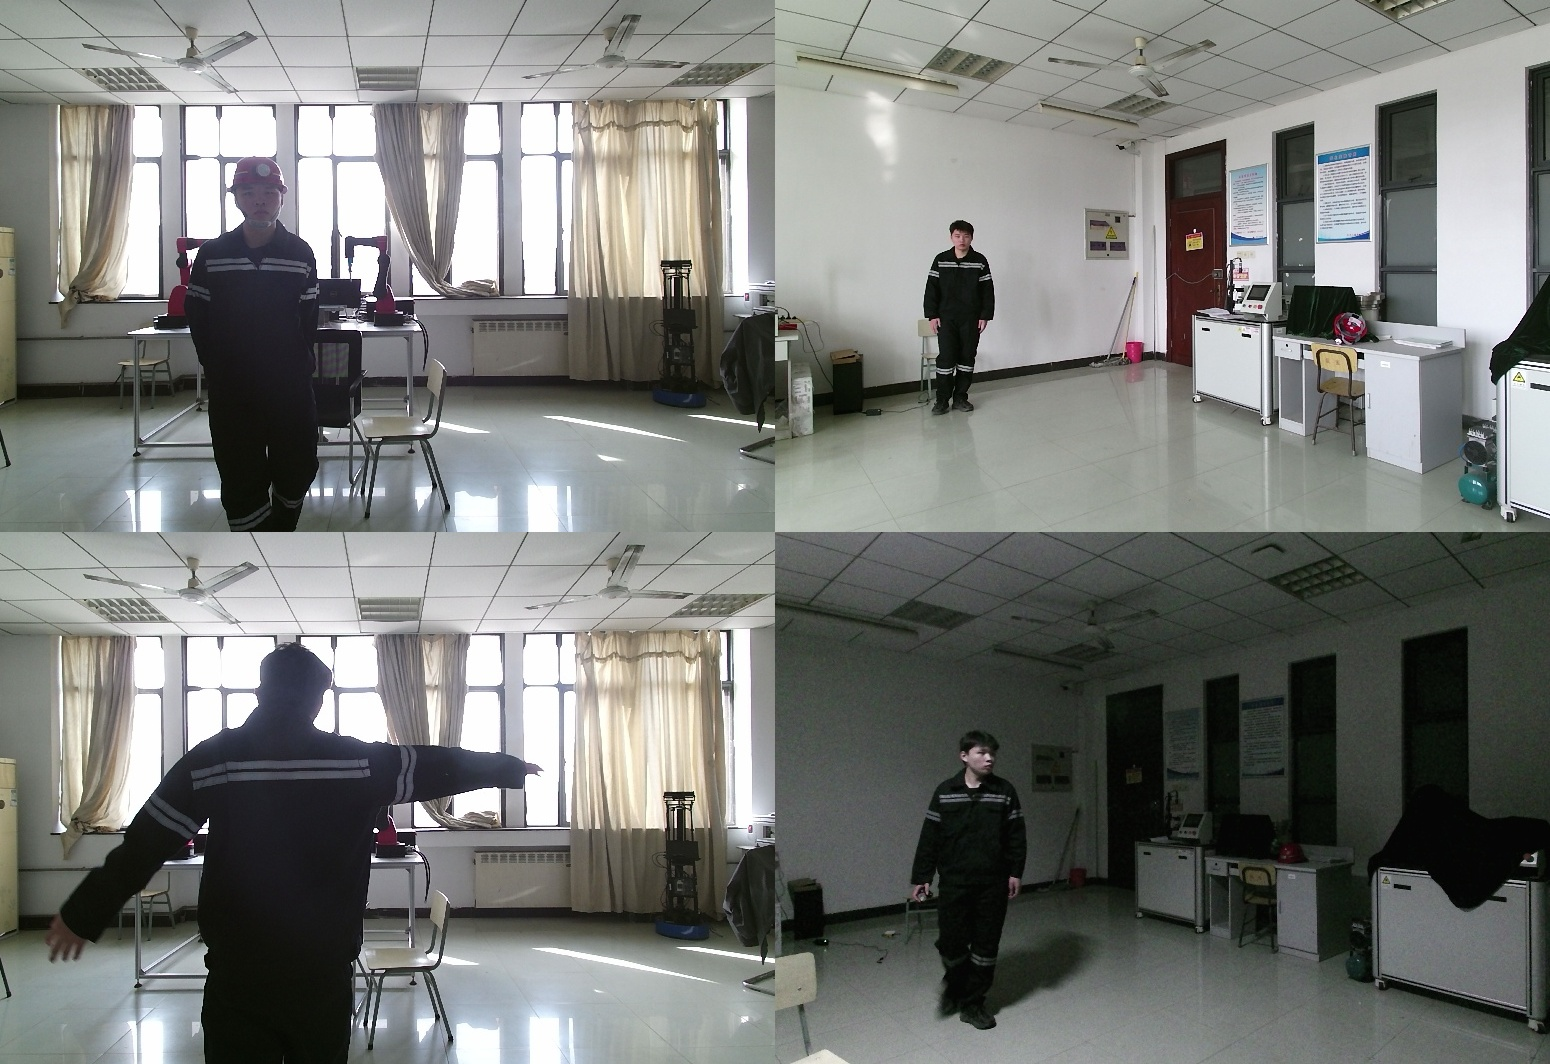person: (50, 645, 543, 1064), (183, 159, 331, 532), (911, 731, 1036, 1028), (919, 223, 995, 421)
